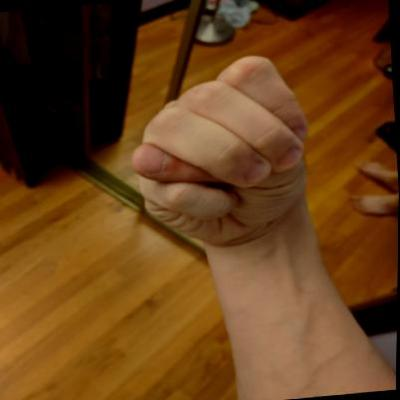hand: (117, 48, 328, 255)
